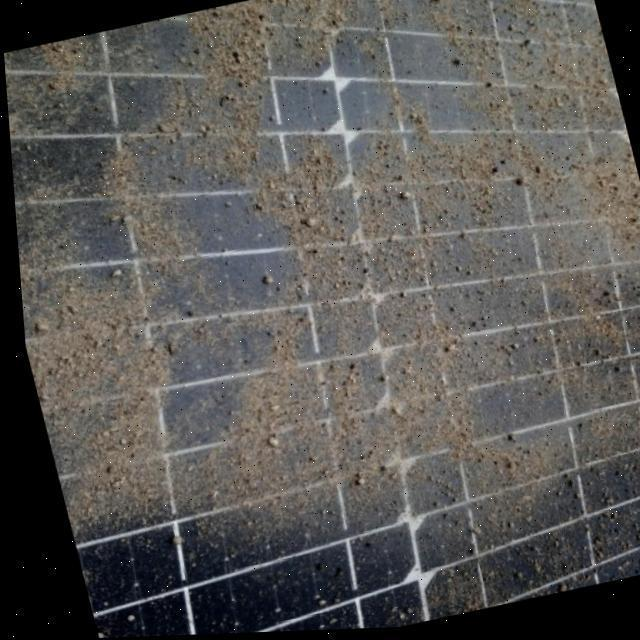Anomaly Solar Panel: (0, 0, 640, 640)
Surface Contaminant: (3, 0, 640, 639)
